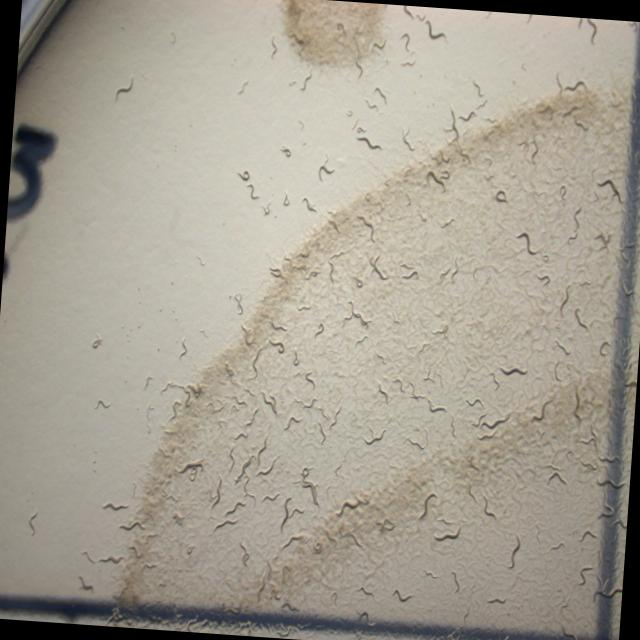filarid: (234, 435, 266, 501), (295, 467, 318, 506), (215, 499, 246, 527), (280, 496, 303, 531), (353, 122, 381, 150), (416, 492, 437, 529), (433, 521, 462, 541), (516, 232, 540, 255), (531, 397, 553, 420), (254, 455, 278, 476), (507, 533, 520, 569), (318, 157, 334, 182), (560, 284, 570, 315), (392, 588, 414, 602), (483, 496, 495, 519), (115, 80, 132, 96), (500, 366, 527, 375), (300, 70, 312, 90), (554, 339, 570, 354), (301, 197, 316, 211), (451, 570, 459, 592), (268, 341, 283, 352), (467, 485, 476, 503), (249, 406, 259, 422), (248, 183, 258, 198), (280, 145, 292, 157), (238, 169, 250, 181), (262, 493, 280, 500), (553, 362, 560, 380), (375, 87, 386, 98), (424, 569, 437, 578), (487, 597, 506, 603), (438, 518, 454, 525), (537, 274, 549, 283), (365, 100, 376, 108), (282, 194, 289, 206), (215, 487, 220, 503), (434, 31, 445, 37), (540, 254, 549, 261), (404, 9, 412, 15), (429, 24, 433, 36), (229, 446, 233, 458), (264, 204, 269, 211)
